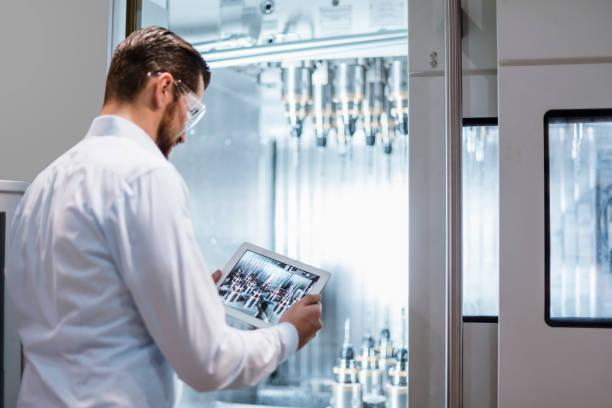lab_coat: (8, 168, 189, 408)
